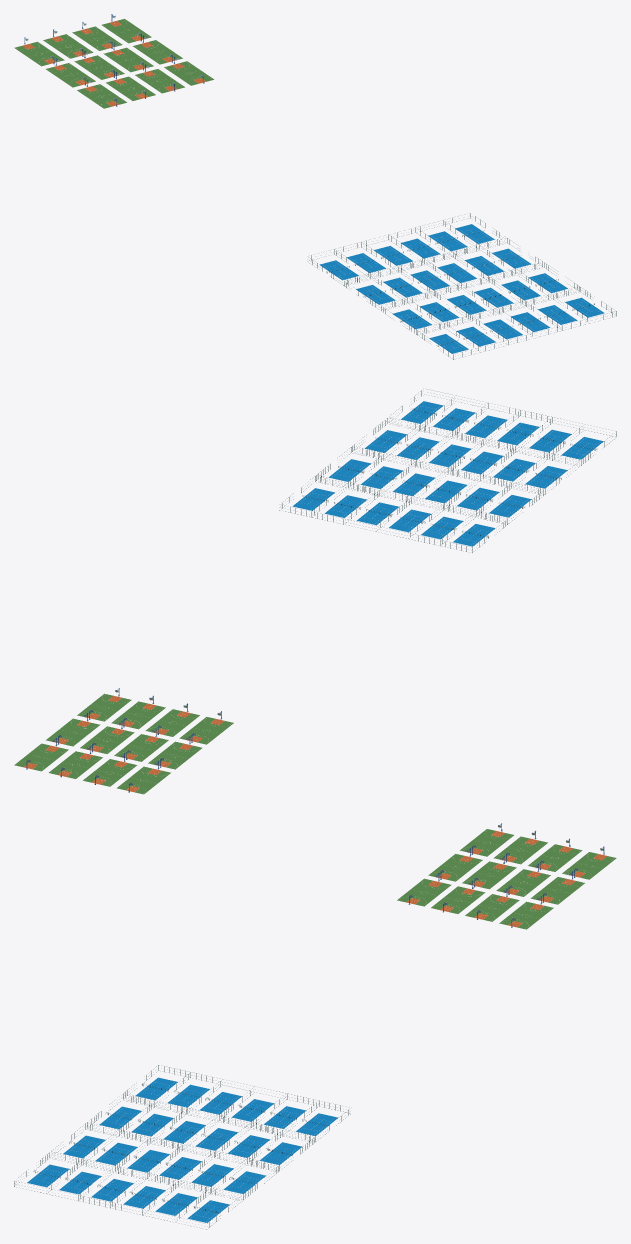
File: SEU_sports_runtime_v12.glb
3 renders of one model, top to bottom at view 1: azimuth 30°, elevation 25°; view 2: azimuth 150°, elevation 25°; view 3: azimuth 330°, elevation 25°, orthographic. The views are drawn at different scales.
Parts seen in each view (by area): view 1: SEU_SPORT_V12__GEO_COURT_817128614_SURFACE, SEU_SPORT_V12__GEO_COURT_817128608_SURFACE, SEU_SPORT_V12__GEO_COURT_817128611_SURFACE, SEU_SPORT_V12__GEO_COURT_817128604_SURFACE, SEU_SPORT_V12__GEO_COURT_817128612_SURFACE, SEU_SPORT_V12__GEO_COURT_817128619_SURFACE, SEU_SPORT_V12__GEO_COURT_817128602_SURFACE, SEU_SPORT_V12__GEO_COURT_817128603_SURFACE, SEU_SPORT_V12__GEO_COURT_817128620_SURFACE, SEU_SPORT_V12__GEO_COURT_817128622_SURFACE, SEU_SPORT_V12__GEO_COURT_817128601_SURFACE, SEU_SPORT_V12__GEO_COURT_817128621_SURFACE; view 2: SEU_SPORT_V12__GEO_COURT_817128601_SURFACE, SEU_SPORT_V12__GEO_COURT_817128602_SURFACE, SEU_SPORT_V12__GEO_COURT_817128603_SURFACE, SEU_SPORT_V12__GEO_COURT_817128604_SURFACE, SEU_SPORT_V12__GEO_COURT_817128611_SURFACE, SEU_SPORT_V12__GEO_COURT_817128621_SURFACE, SEU_SPORT_V12__GEO_COURT_817128620_SURFACE, SEU_SPORT_V12__GEO_COURT_817128608_SURFACE, SEU_SPORT_V12__GEO_COURT_817128614_SURFACE, SEU_SPORT_V12__GEO_COURT_817128622_SURFACE, SEU_SPORT_V12__GEO_COURT_817128612_SURFACE, SEU_SPORT_V12__GEO_COURT_817128619_SURFACE; view 3: SEU_SPORT_V12__GEO_COURT_817128614_SURFACE, SEU_SPORT_V12__GEO_COURT_817128611_SURFACE, SEU_SPORT_V12__GEO_COURT_817128612_SURFACE, SEU_SPORT_V12__GEO_COURT_817128608_SURFACE, SEU_SPORT_V12__GEO_COURT_817128622_SURFACE, SEU_SPORT_V12__GEO_COURT_817128619_SURFACE, SEU_SPORT_V12__GEO_COURT_817128620_SURFACE, SEU_SPORT_V12__GEO_COURT_817128603_SURFACE, SEU_SPORT_V12__GEO_COURT_817128602_SURFACE, SEU_SPORT_V12__GEO_COURT_817128604_SURFACE, SEU_SPORT_V12__GEO_COURT_817128601_SURFACE, SEU_SPORT_V12__GEO_COURT_817128621_SURFACE.
Part boxes in pixels (box(x1,y1,x2,y2)): SEU_SPORT_V12__GEO_COURT_817128614_SURFACE: box(164, 61, 213, 85); SEU_SPORT_V12__GEO_COURT_817128608_SURFACE: box(77, 84, 126, 108); SEU_SPORT_V12__GEO_COURT_817128611_SURFACE: box(106, 76, 155, 100); SEU_SPORT_V12__GEO_COURT_817128604_SURFACE: box(14, 41, 64, 66); SEU_SPORT_V12__GEO_COURT_817128612_SURFACE: box(135, 69, 184, 93); SEU_SPORT_V12__GEO_COURT_817128619_SURFACE: box(46, 63, 95, 87); SEU_SPORT_V12__GEO_COURT_817128602_SURFACE: box(72, 26, 122, 50); SEU_SPORT_V12__GEO_COURT_817128603_SURFACE: box(43, 34, 93, 58); SEU_SPORT_V12__GEO_COURT_817128620_SURFACE: box(74, 55, 124, 79); SEU_SPORT_V12__GEO_COURT_817128622_SURFACE: box(133, 40, 182, 64); SEU_SPORT_V12__GEO_COURT_817128601_SURFACE: box(102, 19, 151, 43); SEU_SPORT_V12__GEO_COURT_817128621_SURFACE: box(103, 47, 153, 72); SEU_SPORT_V12__GEO_COURT_817128601_SURFACE: box(14, 743, 68, 771); SEU_SPORT_V12__GEO_COURT_817128602_SURFACE: box(49, 751, 102, 778); SEU_SPORT_V12__GEO_COURT_817128603_SURFACE: box(83, 759, 137, 786); SEU_SPORT_V12__GEO_COURT_817128604_SURFACE: box(117, 766, 170, 794); SEU_SPORT_V12__GEO_COURT_817128611_SURFACE: box(145, 709, 199, 736); SEU_SPORT_V12__GEO_COURT_817128621_SURFACE: box(80, 726, 134, 753); SEU_SPORT_V12__GEO_COURT_817128620_SURFACE: box(114, 734, 168, 761); SEU_SPORT_V12__GEO_COURT_817128608_SURFACE: box(179, 717, 233, 744); SEU_SPORT_V12__GEO_COURT_817128614_SURFACE: box(77, 693, 131, 721); SEU_SPORT_V12__GEO_COURT_817128622_SURFACE: box(46, 718, 100, 746); SEU_SPORT_V12__GEO_COURT_817128612_SURFACE: box(111, 701, 165, 729); SEU_SPORT_V12__GEO_COURT_817128619_SURFACE: box(148, 741, 202, 769); SEU_SPORT_V12__GEO_COURT_817128614_SURFACE: box(499, 901, 553, 929); SEU_SPORT_V12__GEO_COURT_817128611_SURFACE: box(431, 886, 485, 913); SEU_SPORT_V12__GEO_COURT_817128612_SURFACE: box(465, 894, 519, 921); SEU_SPORT_V12__GEO_COURT_817128608_SURFACE: box(397, 878, 451, 906); SEU_SPORT_V12__GEO_COURT_817128622_SURFACE: box(531, 877, 584, 904); SEU_SPORT_V12__GEO_COURT_817128619_SURFACE: box(428, 854, 482, 881); SEU_SPORT_V12__GEO_COURT_817128620_SURFACE: box(462, 861, 516, 889); SEU_SPORT_V12__GEO_COURT_817128603_SURFACE: box(493, 836, 547, 864); SEU_SPORT_V12__GEO_COURT_817128602_SURFACE: box(528, 844, 582, 871); SEU_SPORT_V12__GEO_COURT_817128604_SURFACE: box(460, 829, 513, 856); SEU_SPORT_V12__GEO_COURT_817128601_SURFACE: box(562, 852, 616, 879); SEU_SPORT_V12__GEO_COURT_817128621_SURFACE: box(496, 869, 550, 896).
Size of the model in its own units: 111 by 4.42 by 469.
